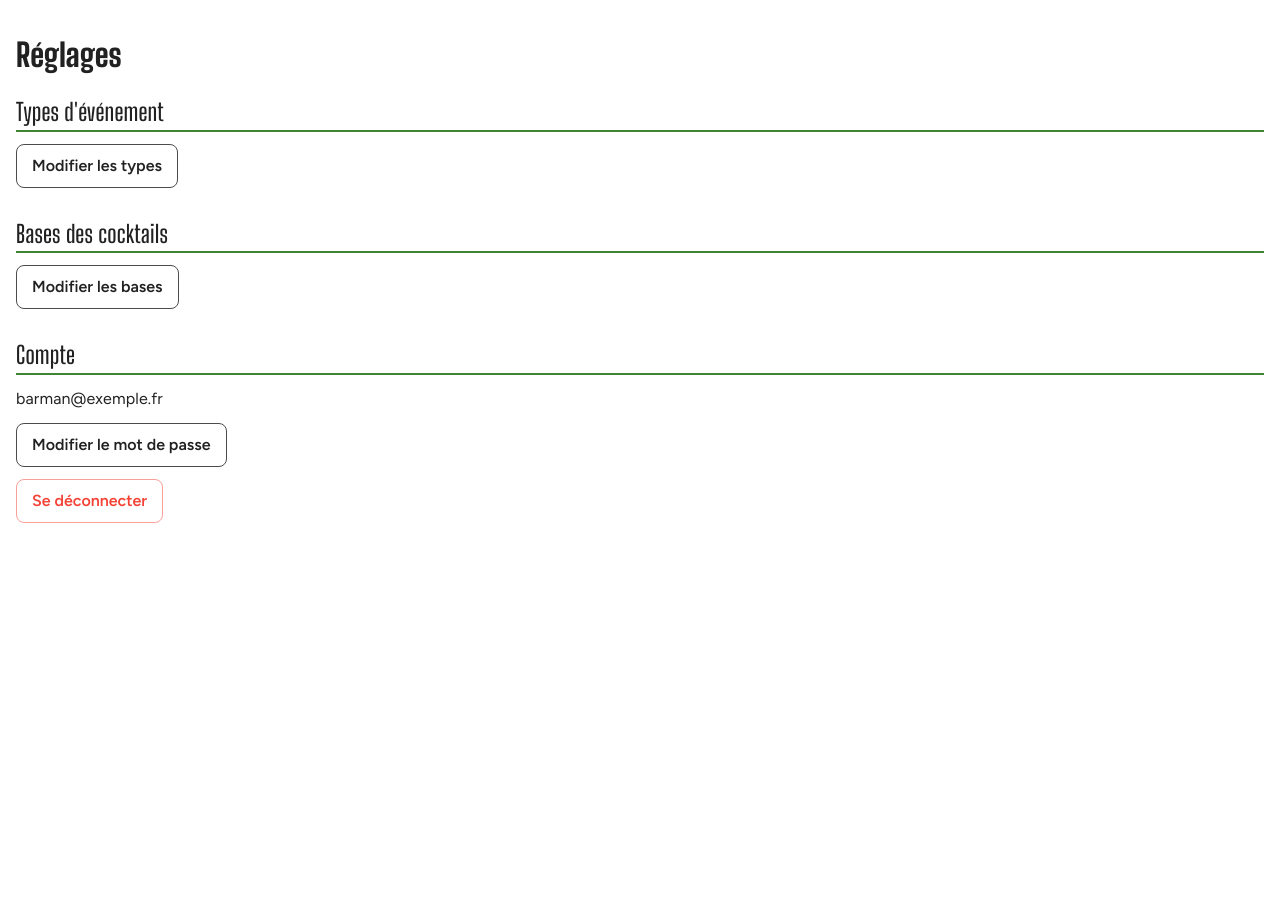
Test: EcranReglages › ajoute un type depuis le bouton en haut de la feuille
The width and height of the screenshot is (1280, 900).
Click the button "Modifier les types" at x=97, y=166, box [16,144,178,188]
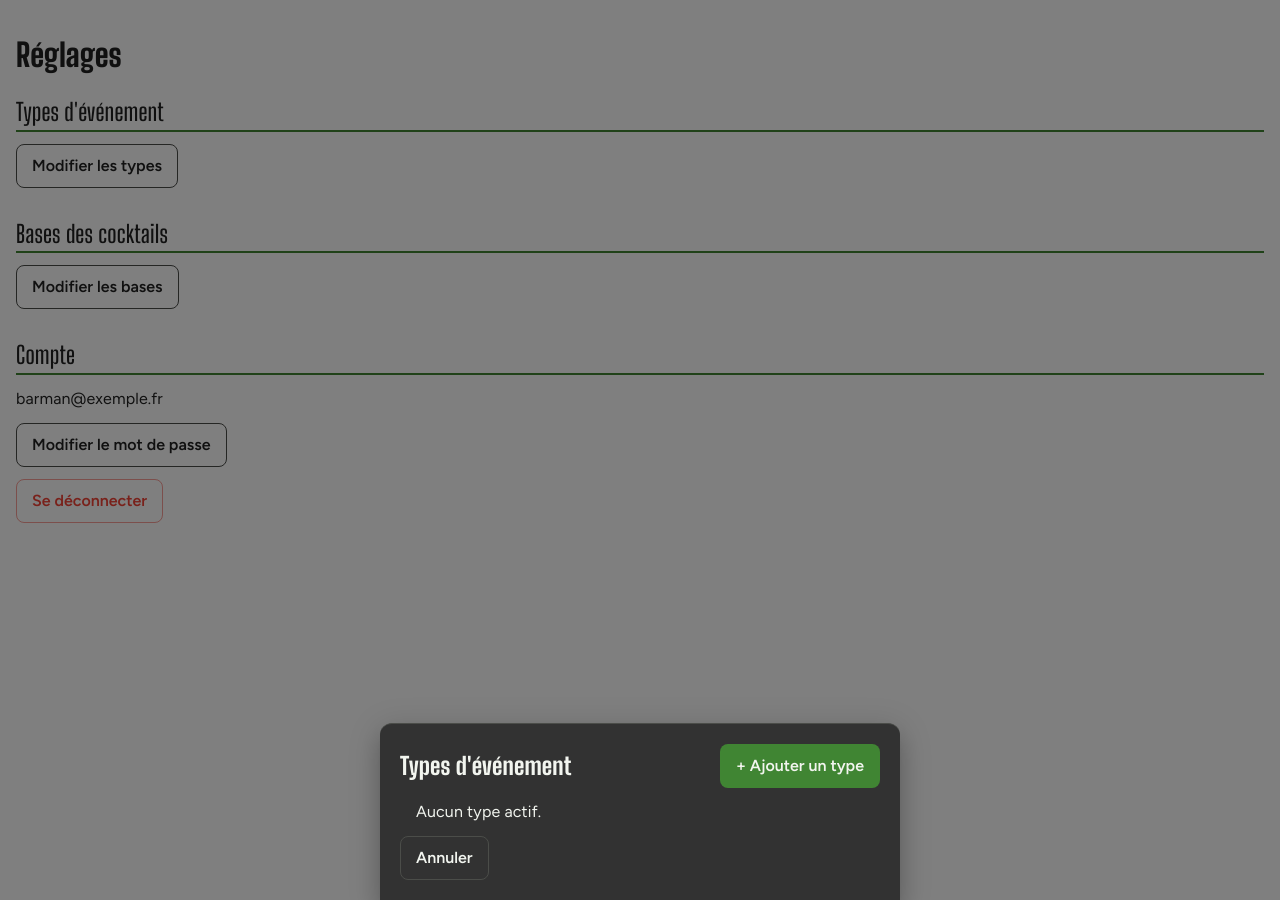
Click the button "+ Ajouter un type" at x=800, y=766, box [720,744,880,788]
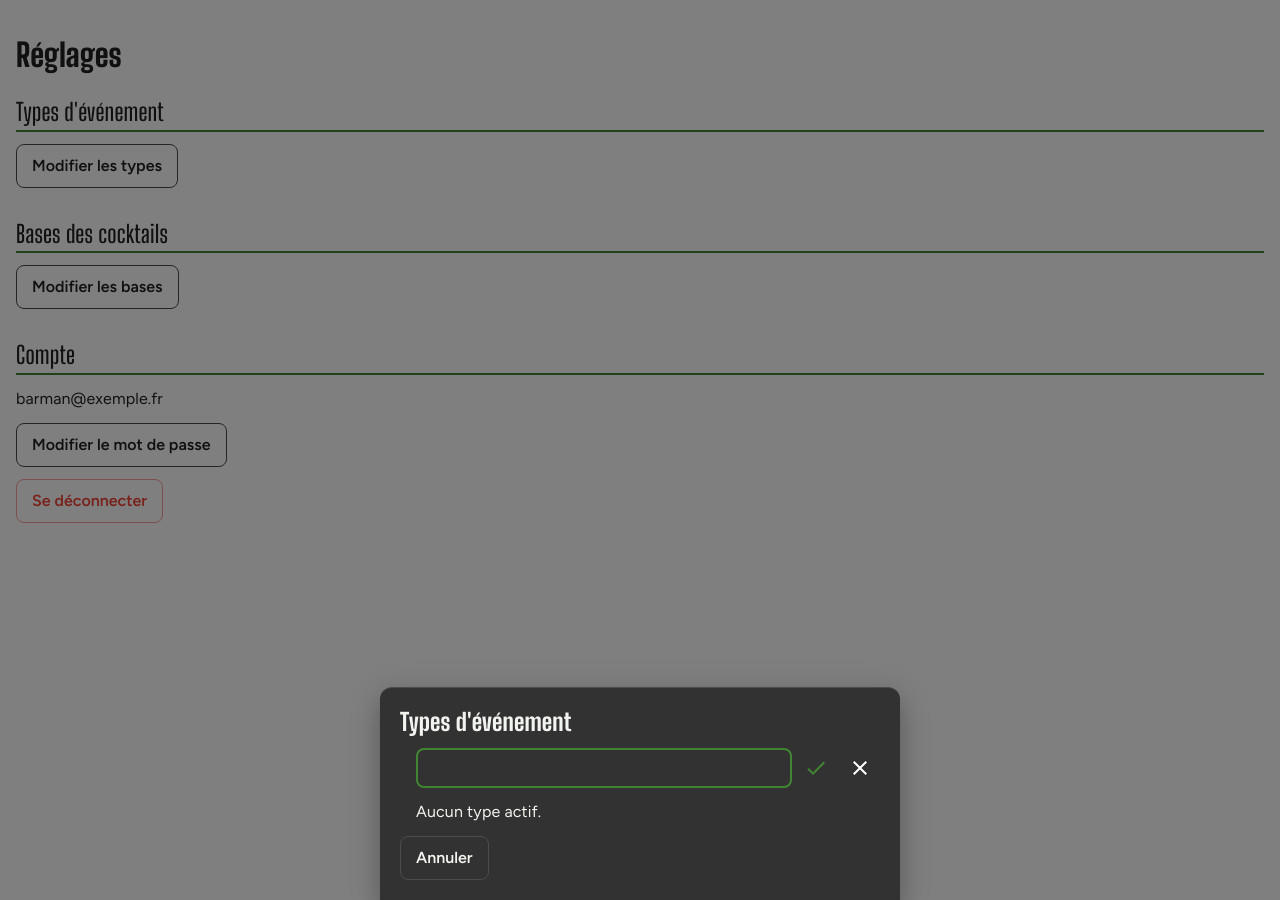
Type "  Mariage " into the field named "Nom du nouveau type" at x=604, y=768, box [416,748,792,788]
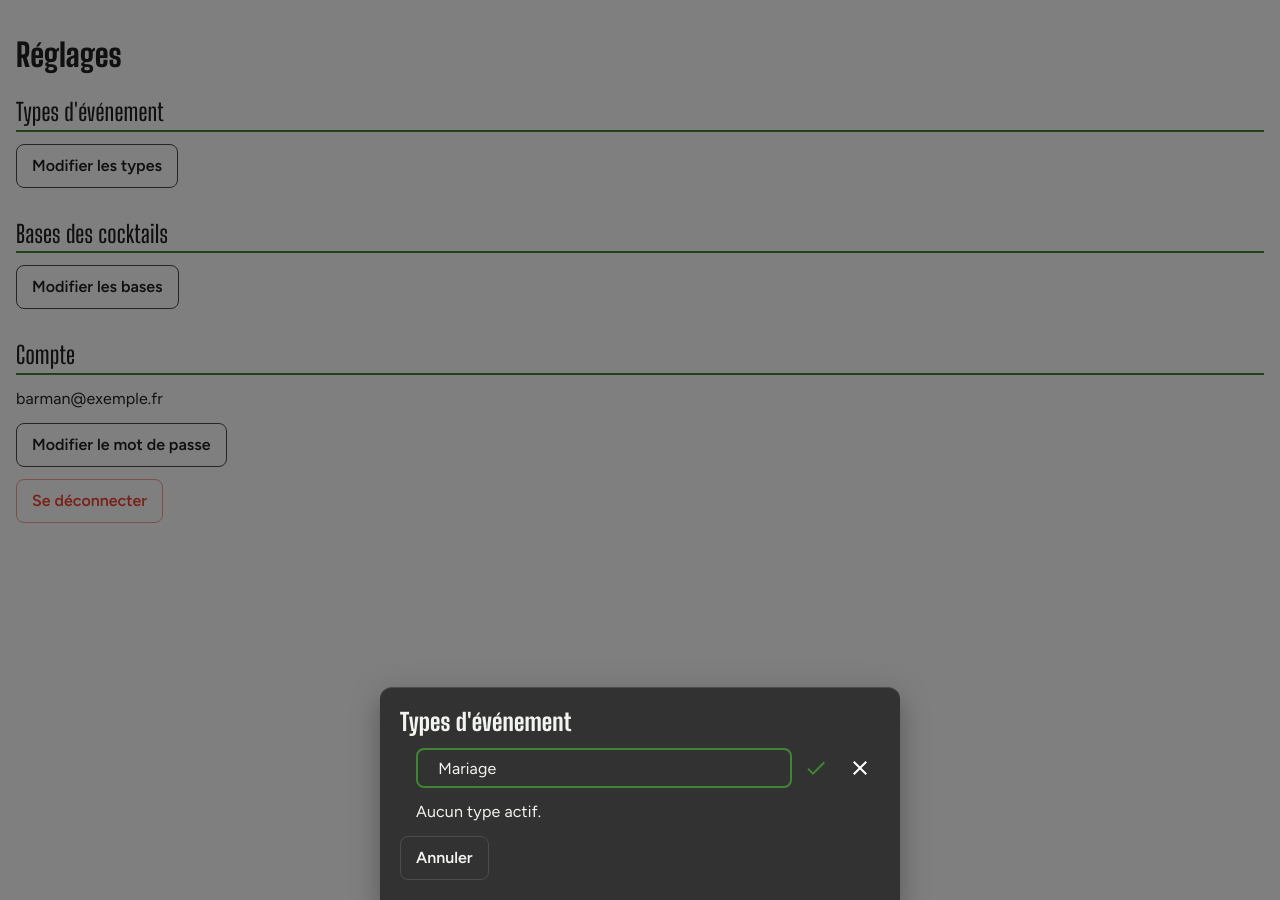
Click the button named "Valider" at x=816, y=768, box [796,748,836,788]
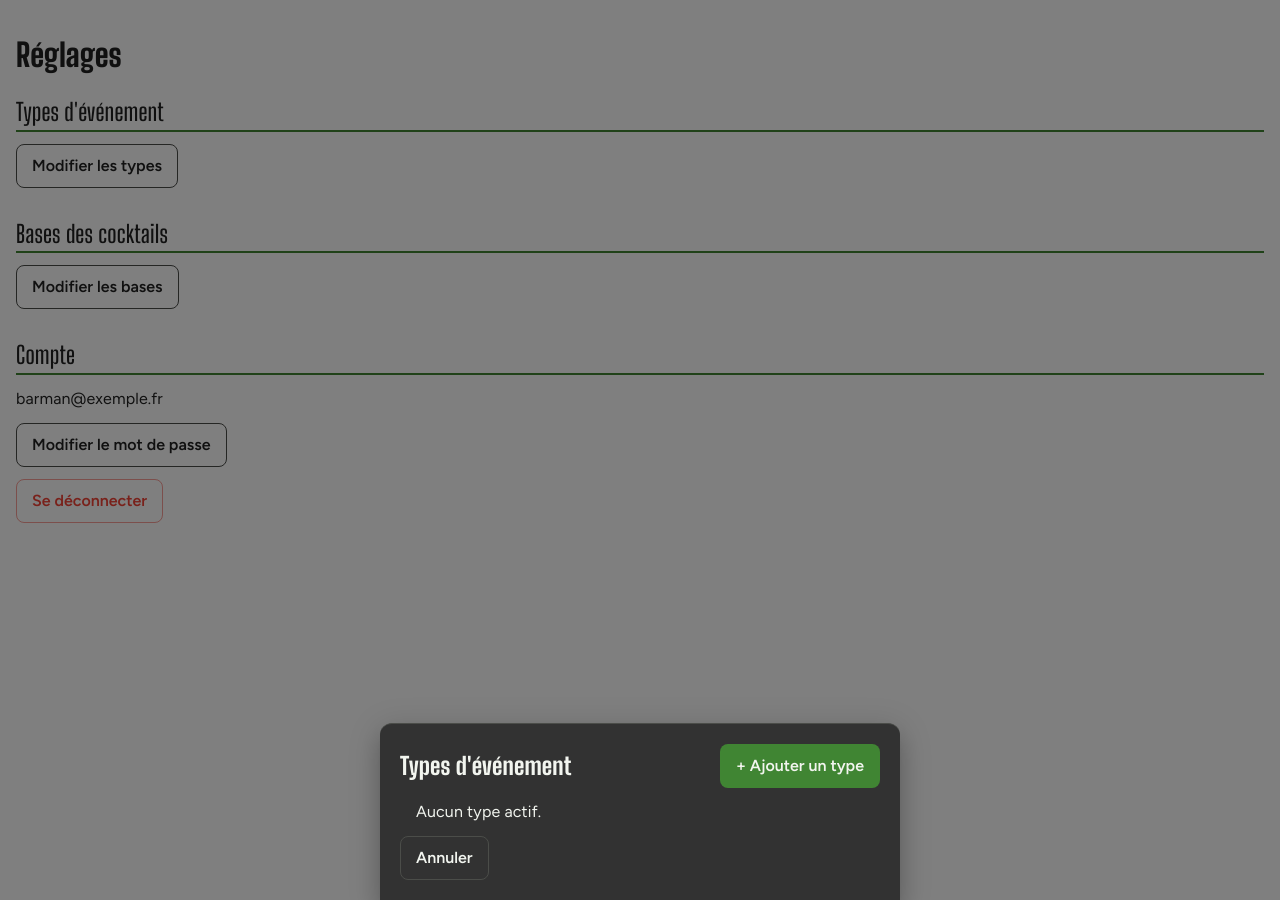
Now the field is gone
